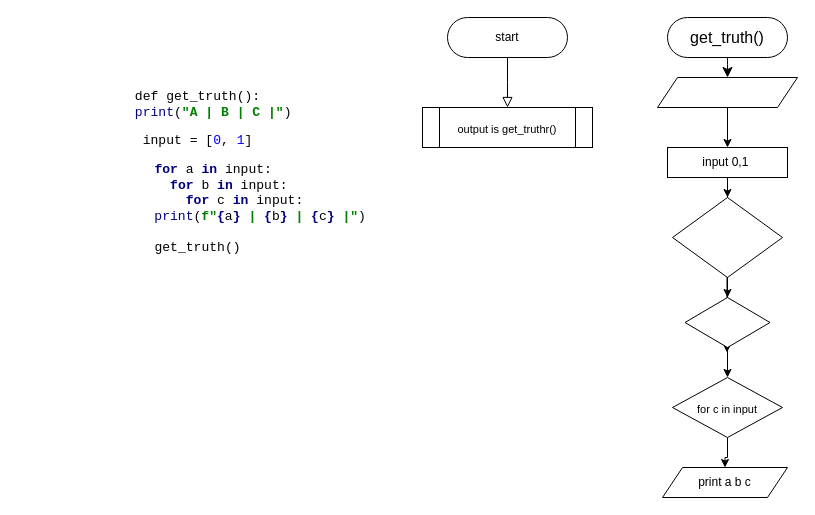
This 815x515 diagram has some shape labels left out. The shapes that lost their labels are listed below. From the top down, each one's box as (x1, y1, x2, y2) in pixels, then its label:
(656, 76, 798, 108): display A B C
(672, 196, 782, 278): for a in input
(684, 296, 770, 348): for b in input
